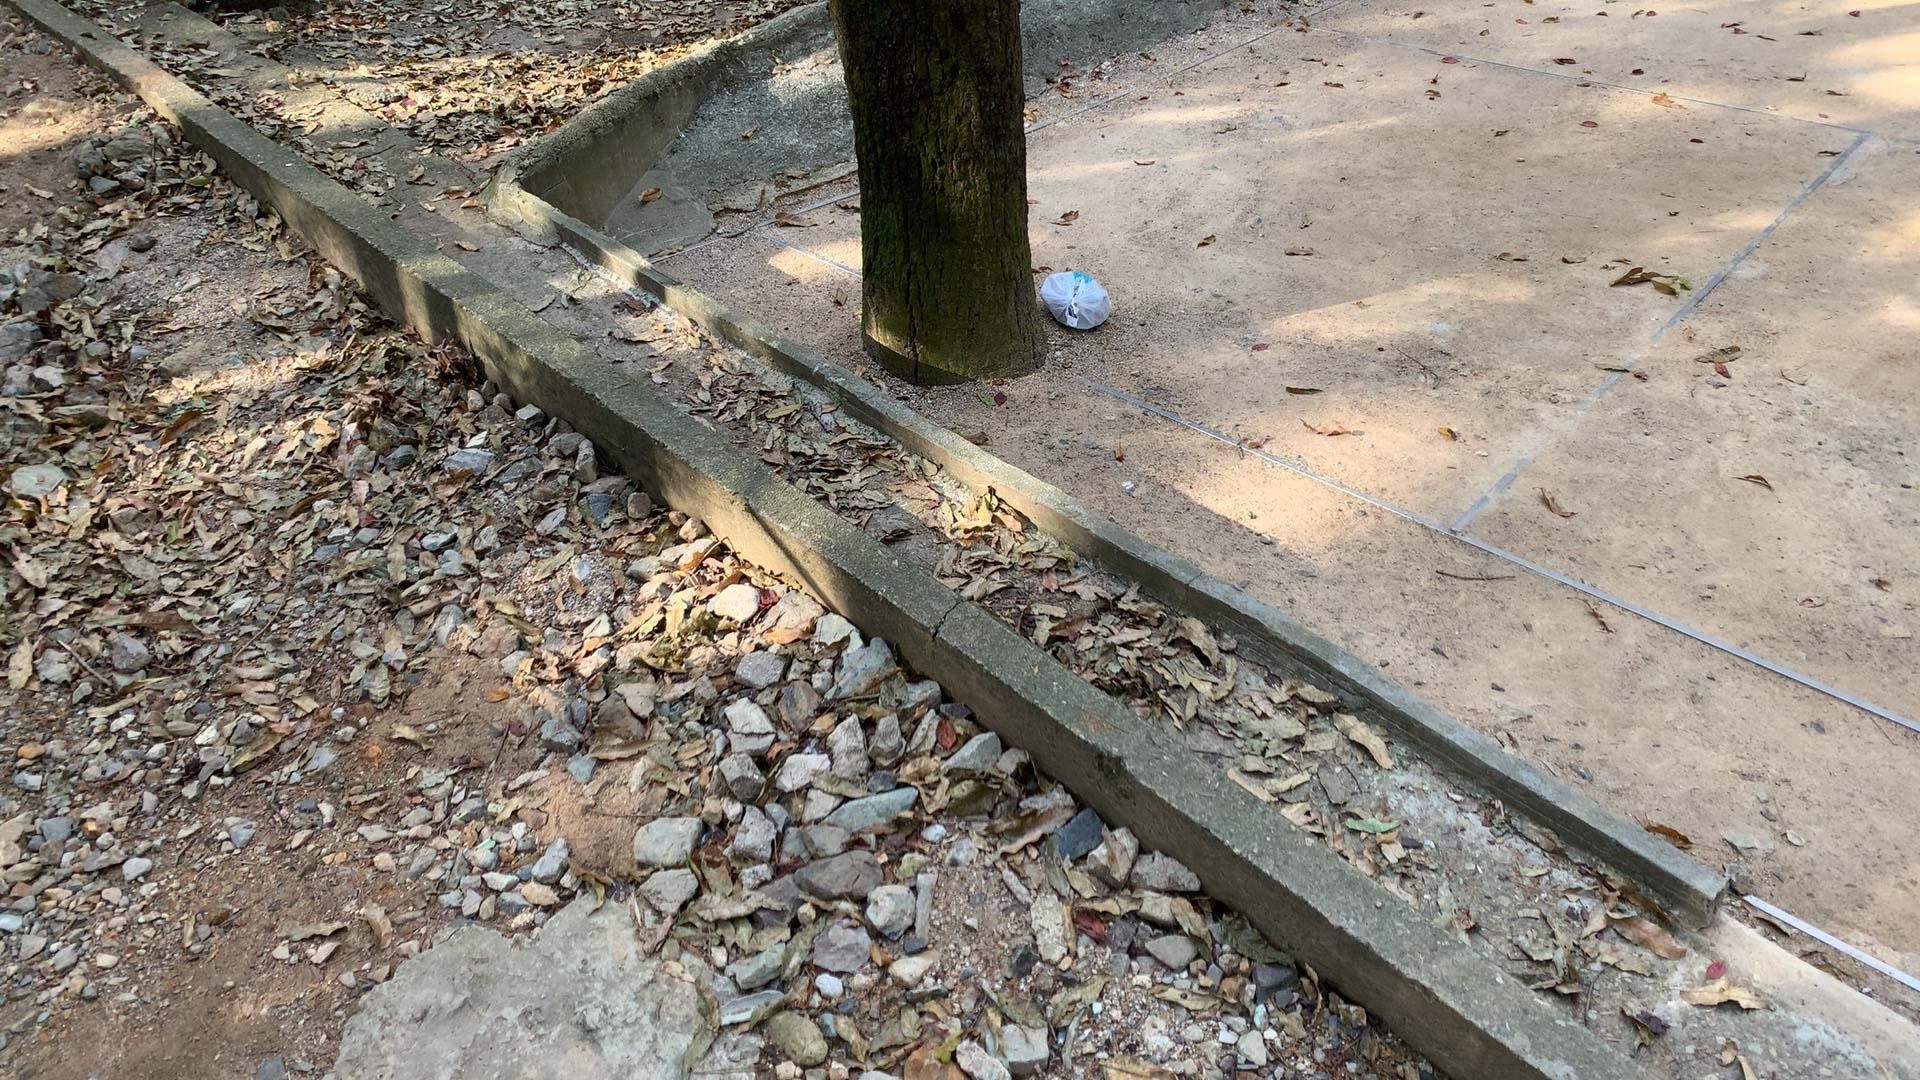white_bag: (1034, 269, 1116, 334)
